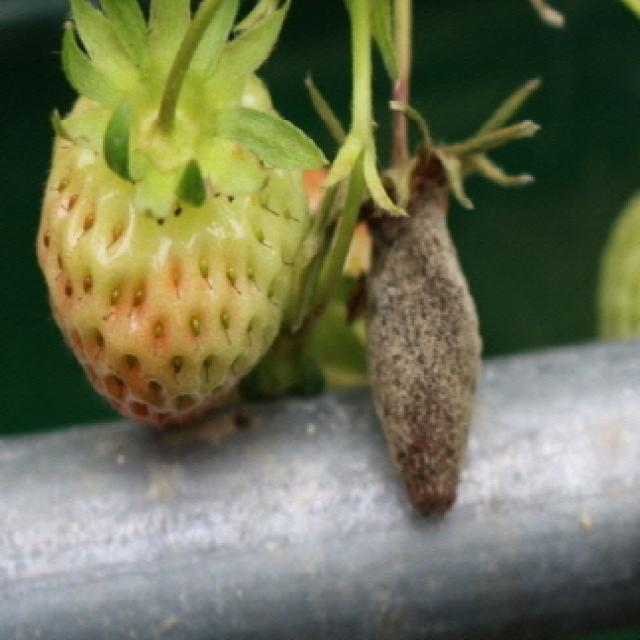Gray Mold: (364, 150, 483, 518)
